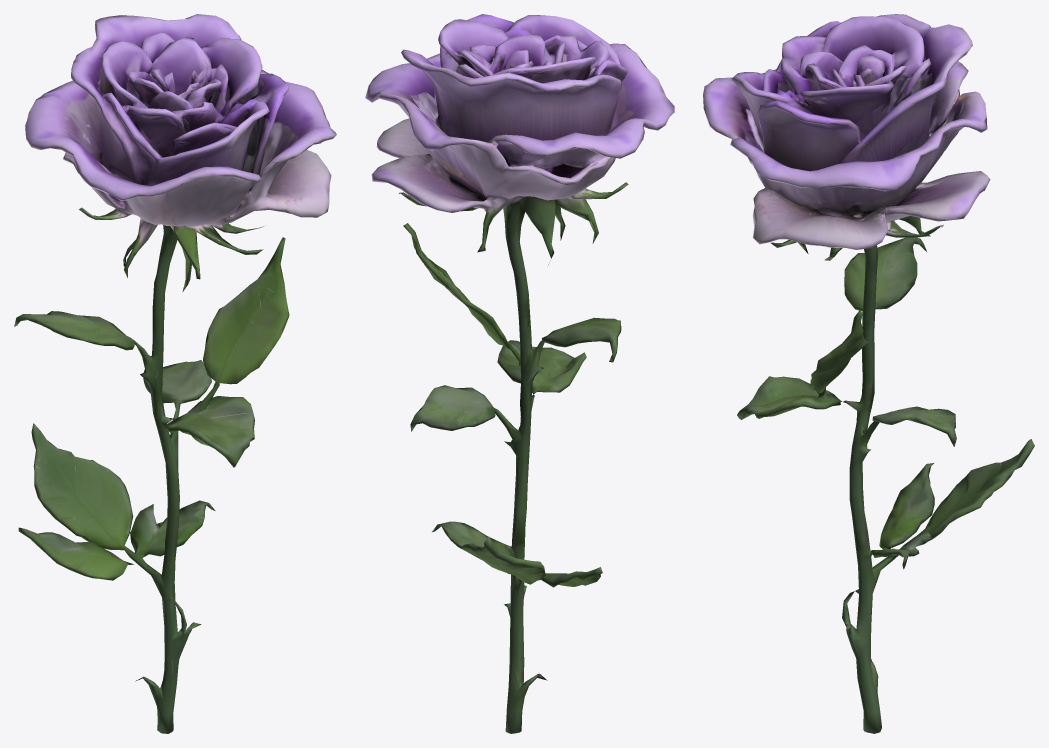
File: fioletowa_roza.glb
3 renders of one model, left to right at view 1: azimuth 30°, elevation 25°; view 2: azimuth 150°, elevation 25°; view 3: azimuth 270°, elevation 25°, orthographic.
Parts seen in each view (by area): view 1: Mesh_0; view 2: Mesh_0; view 3: Mesh_0.
Boxes of the visible parts, <box> form: Mesh_0: <box>14,14,336,733</box>; Mesh_0: <box>365,14,674,733</box>; Mesh_0: <box>703,14,1034,733</box>.
Size of the model in its own units: 0.2058 by 0.5 by 0.2174.
Materials: 1 (1 with a texture image).
